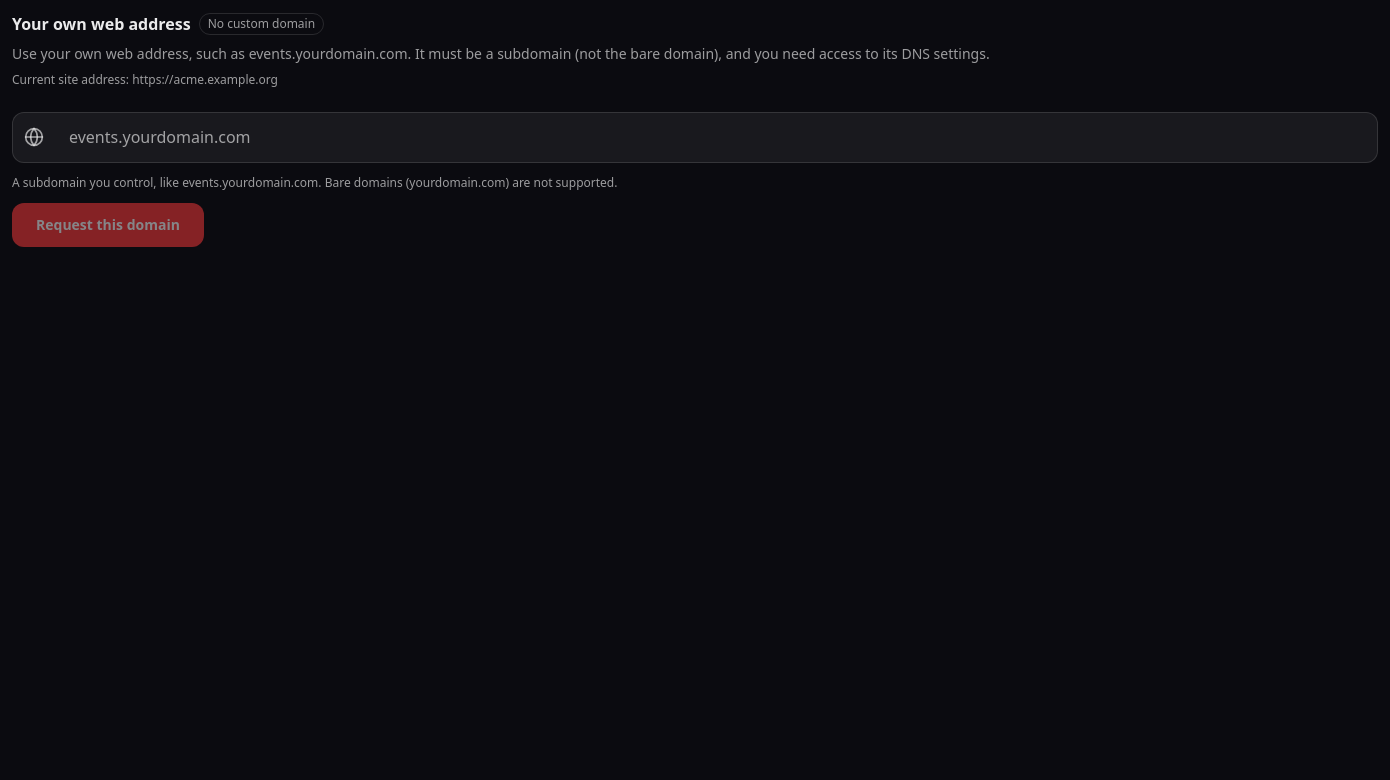
Test: DomainPanel › requests a domain from the placeholder-only input
The width and height of the screenshot is (1390, 780).
Check: the button "Request this domain" is disabled, box top-left (12, 203), bottom-right (204, 247)
Type "events.partner.example.org" into the field with placeholder "events.yourdomain.com".
click(695, 137); type("events.partner.example.org")  # box top-left (12, 112), bottom-right (1378, 163)
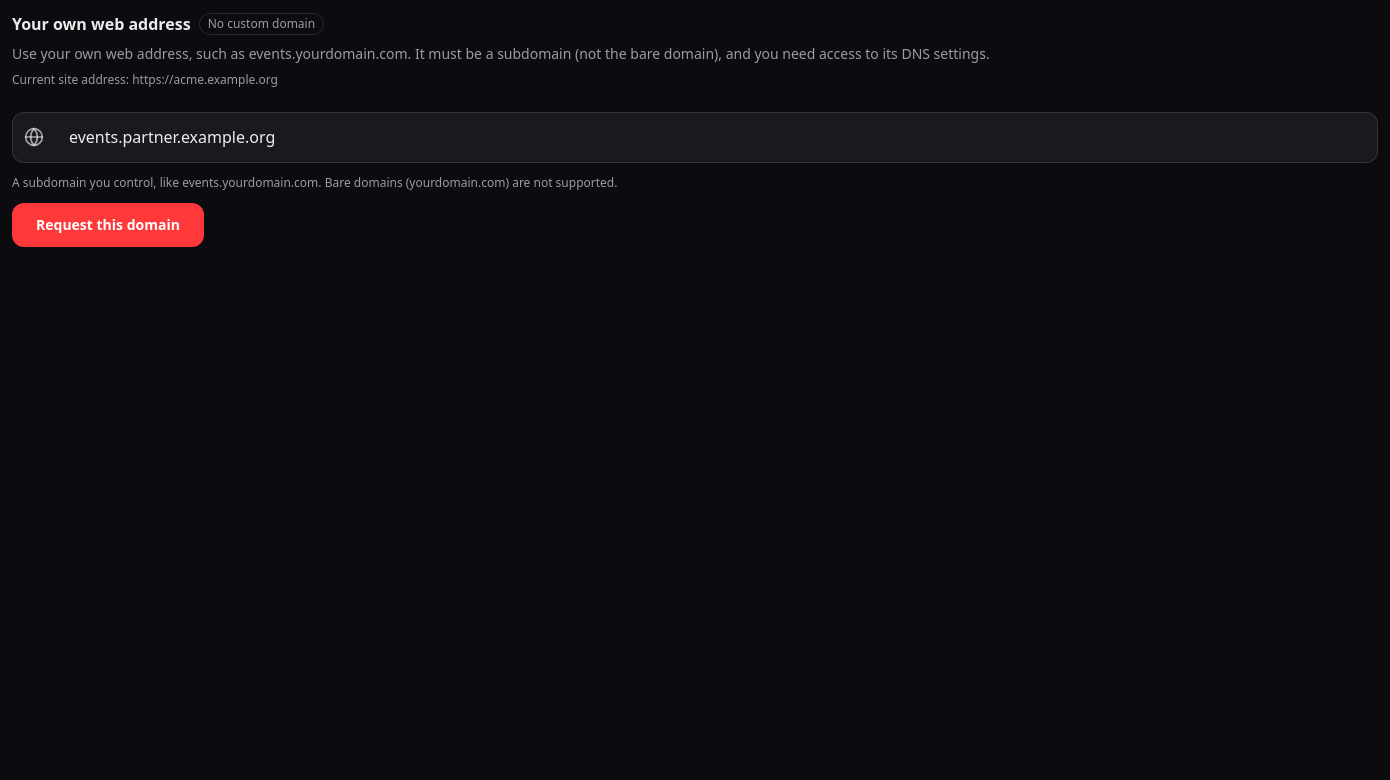
Click the button "Request this domain".
click(108, 225)  # box top-left (12, 203), bottom-right (204, 247)
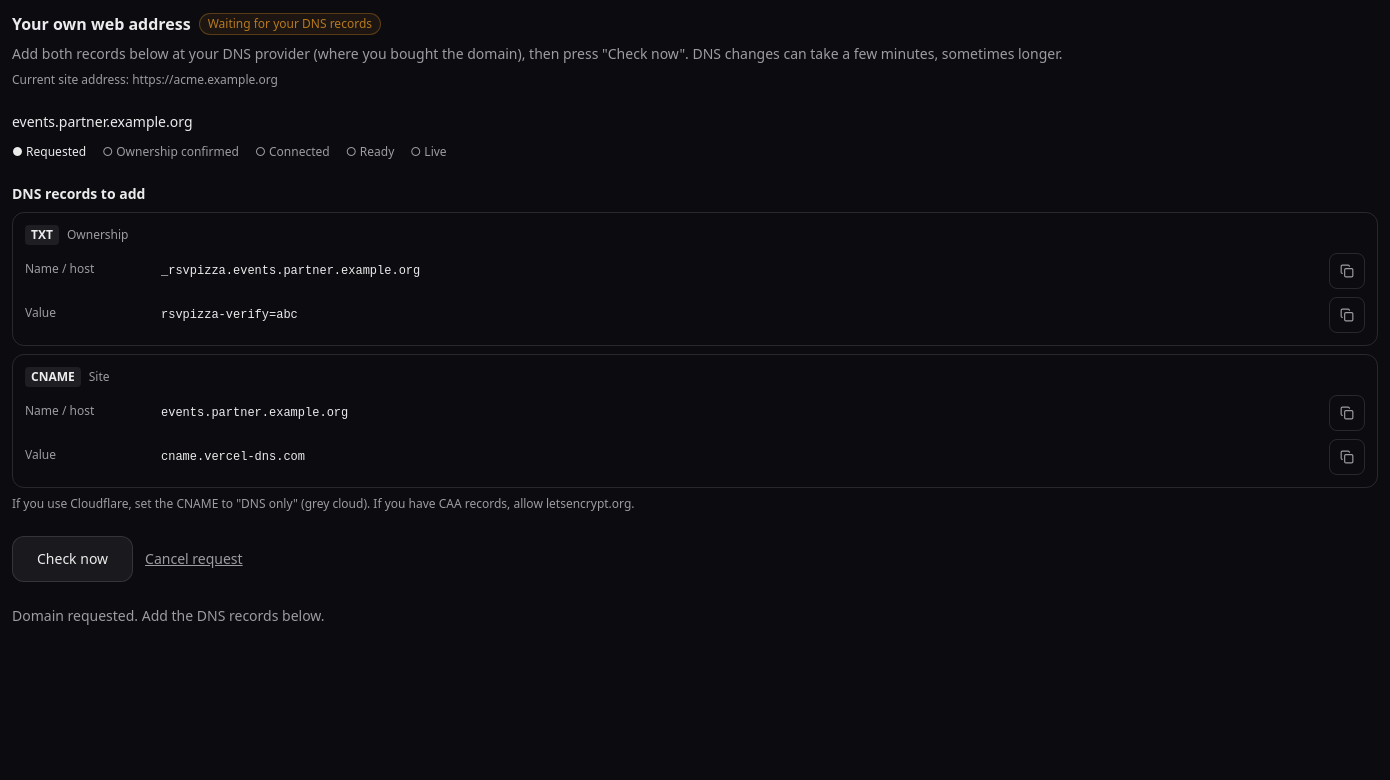
Check: the text "_rsvpizza.events.partner.example.org" is shown, box top-left (161, 264), bottom-right (420, 278)
Check: the text "rsvpizza-verify=abc" is shown, box top-left (161, 308), bottom-right (298, 322)
Check: the text "Waiting for your DNS records" is shown, box top-left (199, 13), bottom-right (381, 35)
